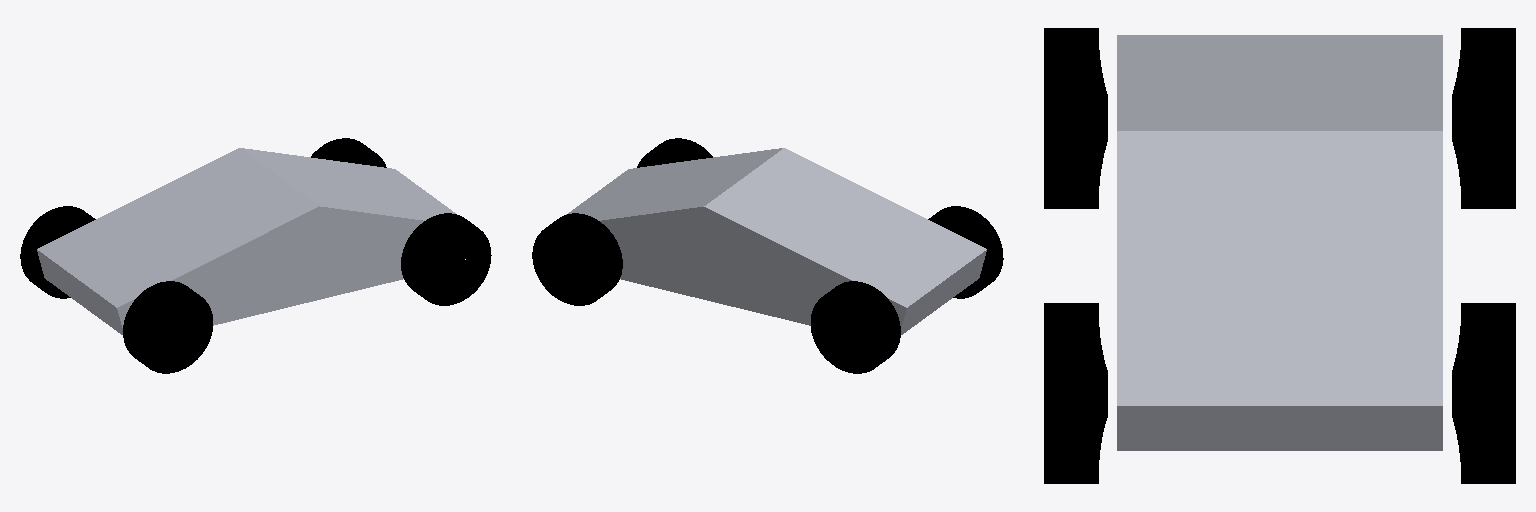
The robot description file, URDF, robot "cybertruck_4wd":
<?xml version="1.0" encoding="utf-8"?>
<!-- This URDF was automatically created by SolidWorks to URDF Exporter! Originally created by [author] ([email redacted]) 
     Commit Version: 1.5.1-0-g916b5db  Build Version: 1.5.7152.31018
     For more information, please see http://wiki.ros.org/sw_urdf_exporter -->
<robot
  name="cybertruck_4wd">

  <!-- Dummy Link -->
  <link name="base_footprint" />

  <joint name="base_footprint_joint" type="fixed">
    <parent link="base_footprint" />
    <child link="base_link" />
  </joint>

  <link
    name="base_link">
    <inertial>
      <origin
        xyz="0.0011659 2.7319E-16 0.019106"
        rpy="0 0 0" />
      <mass
        value="8.551" />
      <inertia
        ixx="0.022542"
        ixy="-2.3937E-16"
        ixz="-0.00037292"
        iyy="0.090783"
        iyz="1.8097E-16"
        izz="0.10362" />
    </inertial>
    <visual>
      <origin
        xyz="0 0 0"
        rpy="0 0 0" />
      <geometry>
        <mesh
          filename="package://cybertruck_4wd/meshes/base_link.STL" />
      </geometry>
      <material
        name="">
        <color
          rgba="0.74 0.75 0.79 1" />
      </material>
    </visual>
    <collision>
      <origin
        xyz="0 0 0"
        rpy="0 0 0" />
      <geometry>
        <mesh
          filename="package://cybertruck_4wd/meshes/base_link.STL" />
      </geometry>
    </collision>
  </link>
  <link
    name="front_right_wheel">
    <inertial>
      <origin
        xyz="-0.019538 8.6042E-16 -2.0539E-15"
        rpy="0 0 0" />
      <mass
        value="0.16011" />
      <inertia
        ixx="0.00023914"
        ixy="-7.1837E-19"
        ixz="1.3114E-18"
        iyy="0.00013245"
        iyz="4.0658E-20"
        izz="0.00013245" />
    </inertial>
    <visual>
      <origin
        xyz="0 0 0"
        rpy="0 0 0" />
      <geometry>
        <mesh
          filename="package://cybertruck_4wd/meshes/front_right_wheel.STL" />
      </geometry>
      <material
        name="">
        <color
          rgba="0 0 0 1" />
      </material>
    </visual>
    <collision>
      <origin
        xyz="0 0 0"
        rpy="0 0 0" />
      <geometry>
        <mesh
          filename="package://cybertruck_4wd/meshes/front_right_wheel.STL" />
      </geometry>
    </collision>
  </link>
  <joint
    name="front_right_joint"
    type="continuous">
    <origin
      xyz="0.18 -0.095 0"
      rpy="2.7426 0 1.5708" />
    <parent
      link="base_link" />
    <child
      link="front_right_wheel" />
    <axis
      xyz="1 0 0" />
  </joint>
  <link
    name="front_left_wheel">
    <inertial>
      <origin
        xyz="-0.019538 -8.3267E-17 -9.7534E-16"
        rpy="0 0 0" />
      <mass
        value="0.16011" />
      <inertia
        ixx="0.00023914"
        ixy="3.5138E-20"
        ixz="1.4771E-18"
        iyy="0.00013245"
        iyz="2.7048E-20"
        izz="0.00013245" />
    </inertial>
    <visual>
      <origin
        xyz="0 0 0"
        rpy="0 0 0" />
      <geometry>
        <mesh
          filename="package://cybertruck_4wd/meshes/front_left_wheel.STL" />
      </geometry>
      <material
        name="">
        <color
          rgba="0 0 0 1" />
      </material>
    </visual>
    <collision>
      <origin
        xyz="0 0 0"
        rpy="0 0 0" />
      <geometry>
        <mesh
          filename="package://cybertruck_4wd/meshes/front_left_wheel.STL" />
      </geometry>
    </collision>
  </link>
  <joint
    name="front_left_joint"
    type="continuous">
    <origin
      xyz="0.18 0.095 0"
      rpy="0 0 -1.5708" />
    <parent
      link="base_link" />
    <child
      link="front_left_wheel" />
    <axis
      xyz="-1 0 0" />
  </joint>
  <link
    name="rear_right_wheel">
    <inertial>
      <origin
        xyz="-0.019538 2.7756E-16 9.2981E-16"
        rpy="0 0 0" />
      <mass
        value="0.16011" />
      <inertia
        ixx="0.00023914"
        ixy="-4.7384E-19"
        ixz="-1.4572E-18"
        iyy="0.00013245"
        iyz="4.4046E-20"
        izz="0.00013245" />
    </inertial>
    <visual>
      <origin
        xyz="0 0 0"
        rpy="0 0 0" />
      <geometry>
        <mesh
          filename="package://cybertruck_4wd/meshes/rear_right_wheel.STL" />
      </geometry>
      <material
        name="">
        <color
          rgba="0 0 0 1" />
      </material>
    </visual>
    <collision>
      <origin
        xyz="0 0 0"
        rpy="0 0 0" />
      <geometry>
        <mesh
          filename="package://cybertruck_4wd/meshes/rear_right_wheel.STL" />
      </geometry>
    </collision>
  </link>
  <joint
    name="rear_right_joint"
    type="continuous">
    <origin
      xyz="-0.18 -0.0950000000000009 0"
      rpy="0.351527640558485 0 1.5707963267949" />
    <parent
      link="base_link" />
    <child
      link="rear_right_wheel" />
    <axis
      xyz="1 0 0" />
  </joint>
  <link
    name="rear_left_wheel">
    <inertial>
      <origin
        xyz="-0.019538 3.3307E-16 -2.2135E-15"
        rpy="0 0 0" />
      <mass
        value="0.16011" />
      <inertia
        ixx="0.00023914"
        ixy="-2.0548E-19"
        ixz="1.4933E-18"
        iyy="0.00013245"
        iyz="2.7105E-20"
        izz="0.00013245" />
    </inertial>
    <visual>
      <origin
        xyz="0 0 0"
        rpy="0 0 0" />
      <geometry>
        <mesh
          filename="package://cybertruck_4wd/meshes/rear_left_wheel.STL" />
      </geometry>
      <material
        name="">
        <color
          rgba="0 0 0 1" />
      </material>
    </visual>
    <collision>
      <origin
        xyz="0 0 0"
        rpy="0 0 0" />
      <geometry>
        <mesh
          filename="package://cybertruck_4wd/meshes/rear_left_wheel.STL" />
      </geometry>
    </collision>
  </link>
  <joint
    name="rear_left_joint"
    type="continuous">
    <origin
      xyz="-0.18 0.095 0"
      rpy="-0.16173 0 -1.5708" />
    <parent
      link="base_link" />
    <child
      link="rear_left_wheel" />
    <axis
      xyz="-1 0 0" />
  </joint>


  <!-- Hokuyo Laser -->
  <link name="hokuyo">
    <collision>
      <origin xyz="0 0 0" rpy="0 0 0"/>
      <geometry>
    <box size="0.1 0.1 0.1"/>
      </geometry>
    </collision>

    <visual>
      <origin xyz="0 0 0" rpy="0 0 0"/>
      <geometry>
        <mesh filename="package://cybertruck_4wd/meshes/hokuyo.dae"/>
      </geometry>
    </visual>

    <inertial>
      <mass value="1e-5" />
      <origin xyz="0 0 0" rpy="0 0 0"/>
      <inertia ixx="1e-6" ixy="0" ixz="0" iyy="1e-6" iyz="0" izz="1e-6" />
    </inertial>
  </link>

  <joint name="hokuyo_joint" type="fixed">
    <origin xyz="0.09 0 0.09" rpy="0 0 0"/>
    <parent link="base_footprint"/>
    <child link="hokuyo"/>
  </joint>


  <!-- Skid Steering Drive -->
  <gazebo>
    <plugin name="skid_steer_drive_controller" filename="libgazebo_ros_skid_steer_drive.so">
      <updateRate>100.0</updateRate>
      <robotNamespace>/</robotNamespace>
      <leftFrontJoint>front_left_joint</leftFrontJoint>
      <rightFrontJoint>front_right_joint</rightFrontJoint>
      <leftRearJoint>rear_left_joint</leftRearJoint>
      <rightRearJoint>rear_right_joint</rightRearJoint>
      <wheelSeparation>0.4</wheelSeparation>
      <wheelDiameter>0.215</wheelDiameter>
      <robotBaseFrame>base_footprint</robotBaseFrame>
      <torque>20</torque>
      <topicName>cmd_vel</topicName>
      <broadcastTF>true</broadcastTF>
    </plugin>
  </gazebo>

  <!-- Hokuyo Laser Sensor -->
  <gazebo reference="hokuyo">
    <sensor type="gpu_ray" name="head_hokuyo_sensor">
      <pose>0 0 0 0 0 0</pose>
      <visualize>false</visualize>
      <update_rate>40</update_rate>
      <ray>
        <scan>
          <horizontal>
            <samples>720</samples>
            <resolution>1</resolution>
            <min_angle>-1.570796</min_angle>
            <max_angle>1.570796</max_angle>
          </horizontal>
        </scan>
        <range>
          <min>0.10</min>
          <max>30.0</max>
          <resolution>0.01</resolution>
        </range>
        <noise>
          <type>gaussian</type>
          <!-- Noise parameters based on published spec for Hokuyo laser
               achieving "+-30mm" accuracy at range < 10m.  A mean of 0.0m and
               stddev of 0.01m will put 99.7% of samples within 0.03m of the true
               reading. -->
          <mean>0.0</mean>
          <stddev>0.01</stddev>
        </noise>
      </ray>
      <plugin name="gazebo_ros_head_hokuyo_controller" filename="libgazebo_ros_gpu_laser.so">
        <topicName>/scan</topicName>
        <frameName>hokuyo</frameName>
      </plugin>
    </sensor>
  </gazebo>

</robot>

--- What the picture shows (computed from the rendered views, not written in the file) ---
The picture shows the robot from 3 angles, left to right: view 1: azimuth 30°, elevation 25°; view 2: azimuth 150°, elevation 25°; view 3: azimuth 270°, elevation 25°; orthographic projection.
Model cybertruck_4wd with 7 links and 6 joints (4 continuous, 2 fixed), rooted at base_footprint, posed every joint at zero.
Visible links, largest first — view 1: base_link, front_right_wheel, rear_right_wheel, rear_left_wheel, front_left_wheel; view 2: base_link, front_left_wheel, rear_left_wheel, rear_right_wheel, front_right_wheel; view 3: base_link, front_left_wheel, rear_left_wheel, rear_right_wheel, front_right_wheel.
Link boxes in pixels (x1,y1,x2,y2): base_link: [37, 148, 455, 334]; front_right_wheel: [401, 213, 491, 305]; rear_right_wheel: [123, 281, 212, 373]; rear_left_wheel: [20, 206, 95, 298]; front_left_wheel: [311, 138, 386, 167]; base_link: [566, 148, 986, 334]; front_left_wheel: [532, 213, 622, 305]; rear_left_wheel: [811, 281, 900, 373]; rear_right_wheel: [928, 206, 1003, 298]; front_right_wheel: [637, 138, 712, 167]; base_link: [1117, 35, 1442, 450]; front_left_wheel: [1452, 303, 1515, 483]; rear_left_wheel: [1452, 28, 1515, 208]; rear_right_wheel: [1044, 28, 1107, 208]; front_right_wheel: [1044, 303, 1107, 483].
Size in the robot's own frame: 0.4645 by 0.26 by 0.1406 metres.
Meshes: 6 distinct files referenced, 5 mesh visuals loaded (5 binary STL); not drawn: 1 (reference not matched to a file when rendering).
